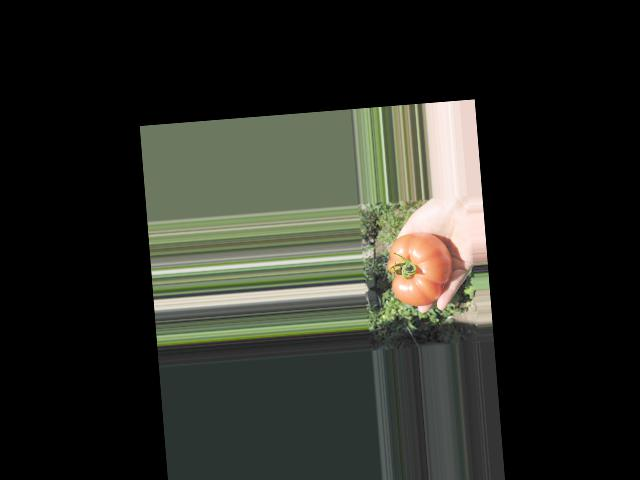tomato: (385, 230, 454, 308)
